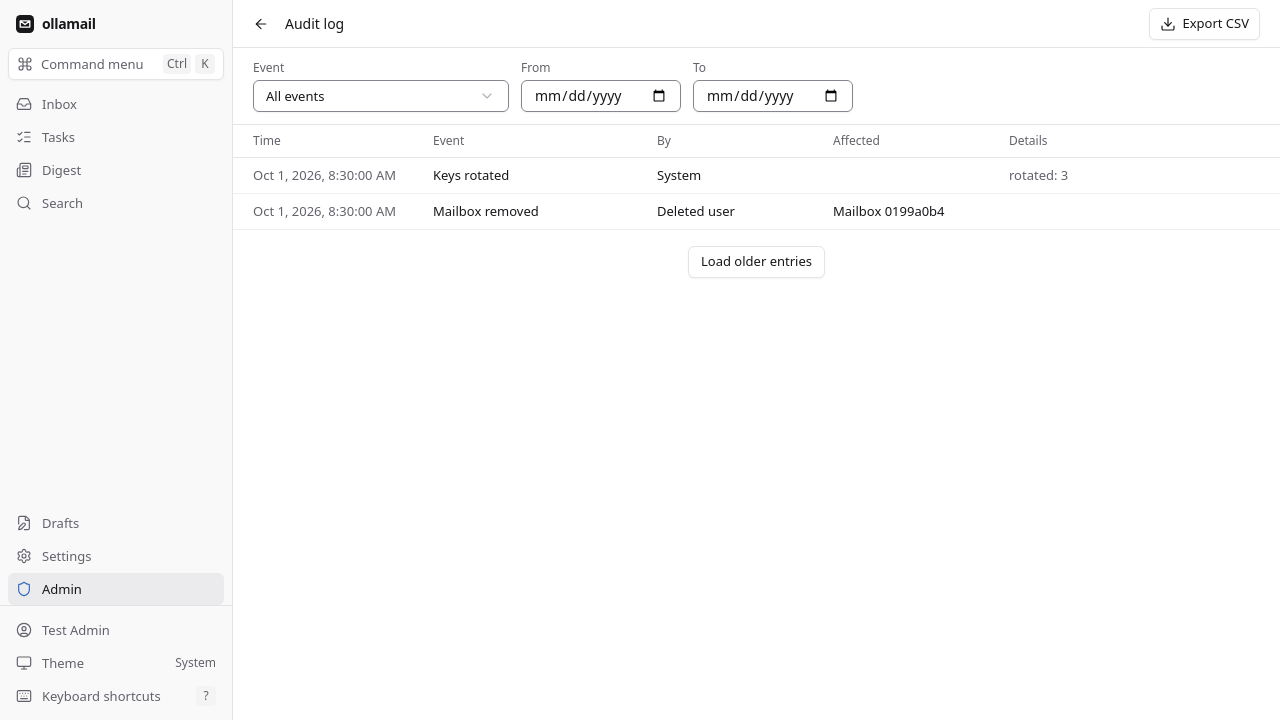
audit log › loads older entries
Check: the heading "Audit log" is shown, box x1=285 y1=14 x2=344 y2=34
Step 1. Click the button "Load older entries" → (756, 262), box x1=688 y1=246 x2=825 y2=278
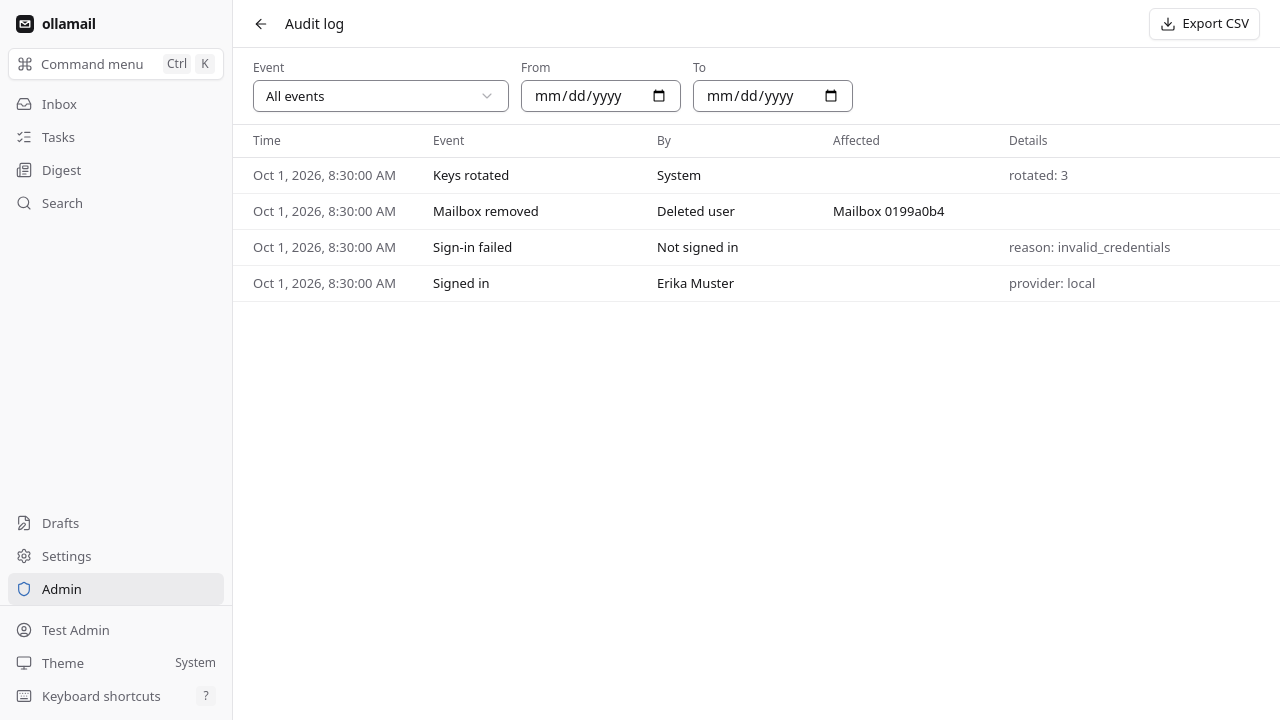
Check: the number of rows is 5, box x1=233 y1=125 x2=1279 y2=157; x1=233 y1=157 x2=1279 y2=193; x1=233 y1=193 x2=1279 y2=229; x1=233 y1=229 x2=1279 y2=265; x1=233 y1=265 x2=1279 y2=301
Check: the button "Load older entries" is gone
